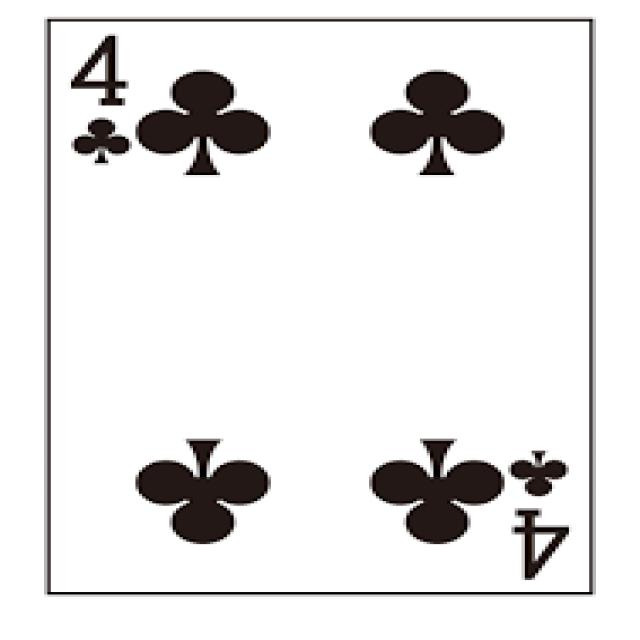C4: (51, 10, 590, 596)
